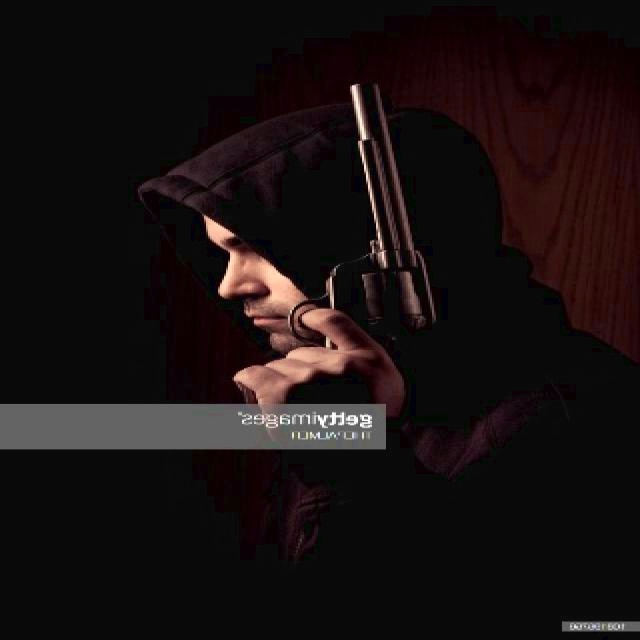gun: (244, 68, 432, 402)
